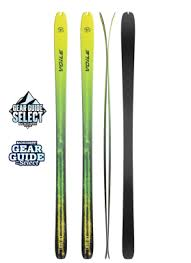skis: (52, 12, 138, 261)
